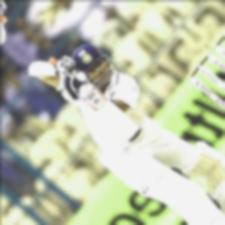batsman: (12, 41, 225, 225)
